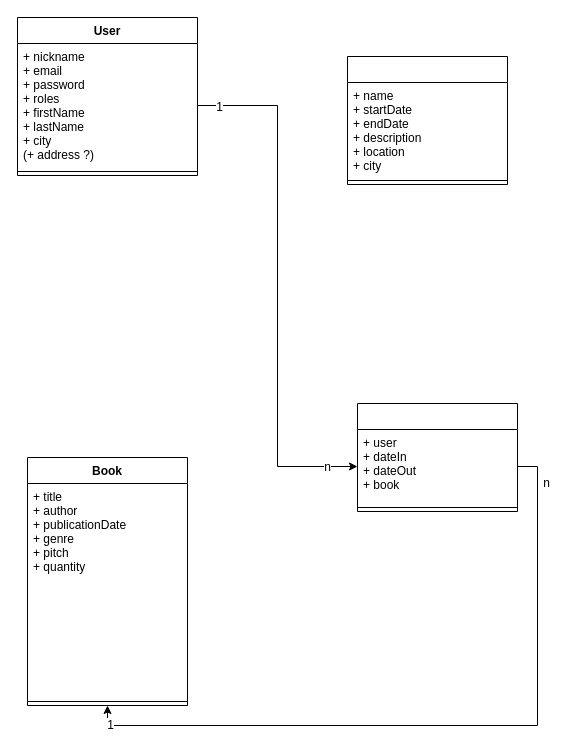
This 567x751 diagram has some shape labels left out. The shapes that lost their labels are listed below. From the top down, each one's box as (x1, y1, x2, y2) in pixels, then its label:
(346, 56, 508, 184): Events
(356, 402, 518, 512): Booking
